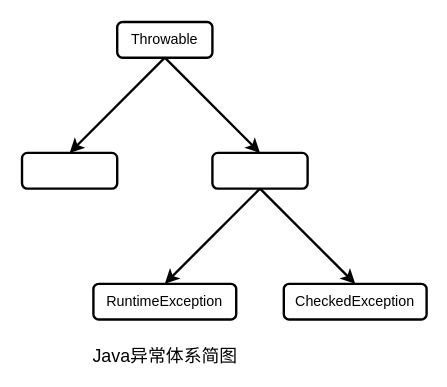
Image size: 447x387. Some labels were removed from this diagram. The centre of each missing label's shape, as x and y in pixels:
"Error" belongs at (69,170).
"Exception" belongs at (259,170).
